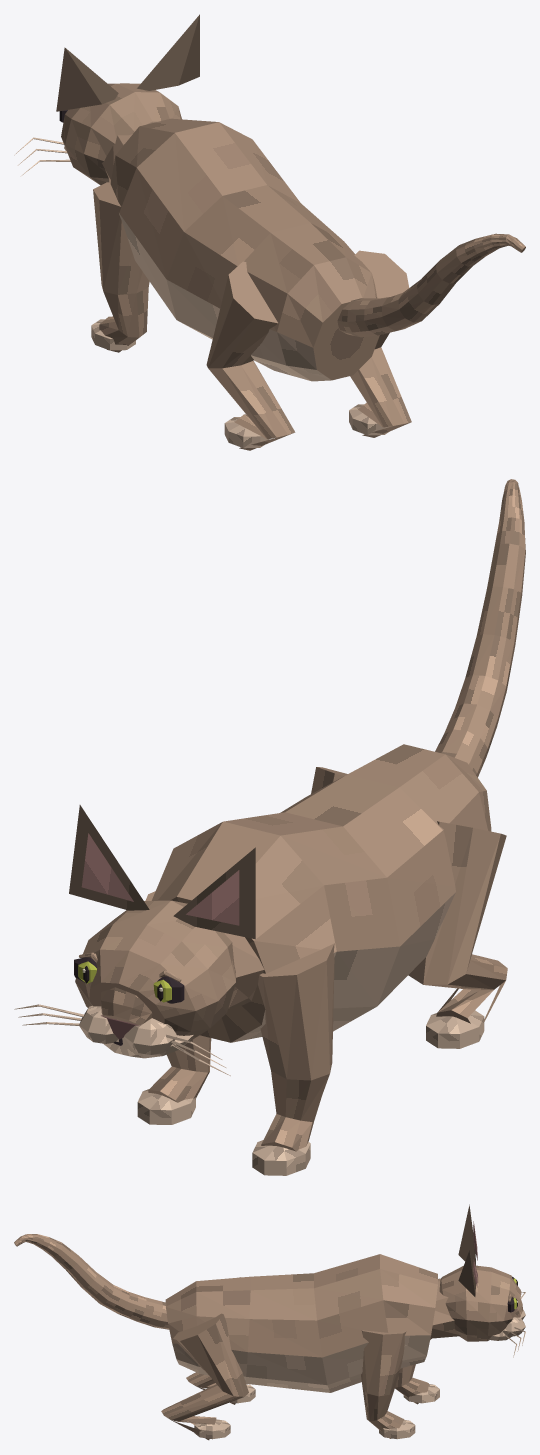
File: mon_cat_devon_rex_kitten.glb
3 views of the same model, one above another, from view 1: azimuth 30°, elevation 25°; view 2: azimuth 150°, elevation 25°; view 3: azimuth 270°, elevation 25° (orthographic). The views are drawn at different scales.
Visible parts, largest first — view 1: closed_body; view 2: closed_body; view 3: closed_body.
Part boxes in pixels (box(x1,y1,x2,y2)): closed_body: box(14, 14, 525, 450); closed_body: box(14, 479, 525, 1175); closed_body: box(14, 1204, 525, 1440).
Size of the model in its own units: 0.0881 by 0.1565 by 0.3516.
Materials: 1 (1 with a texture image).
